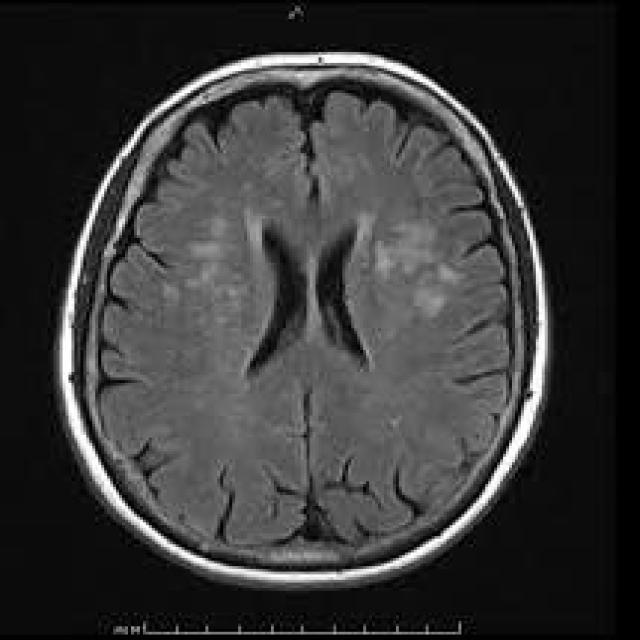notumor: (57, 55, 548, 588)
